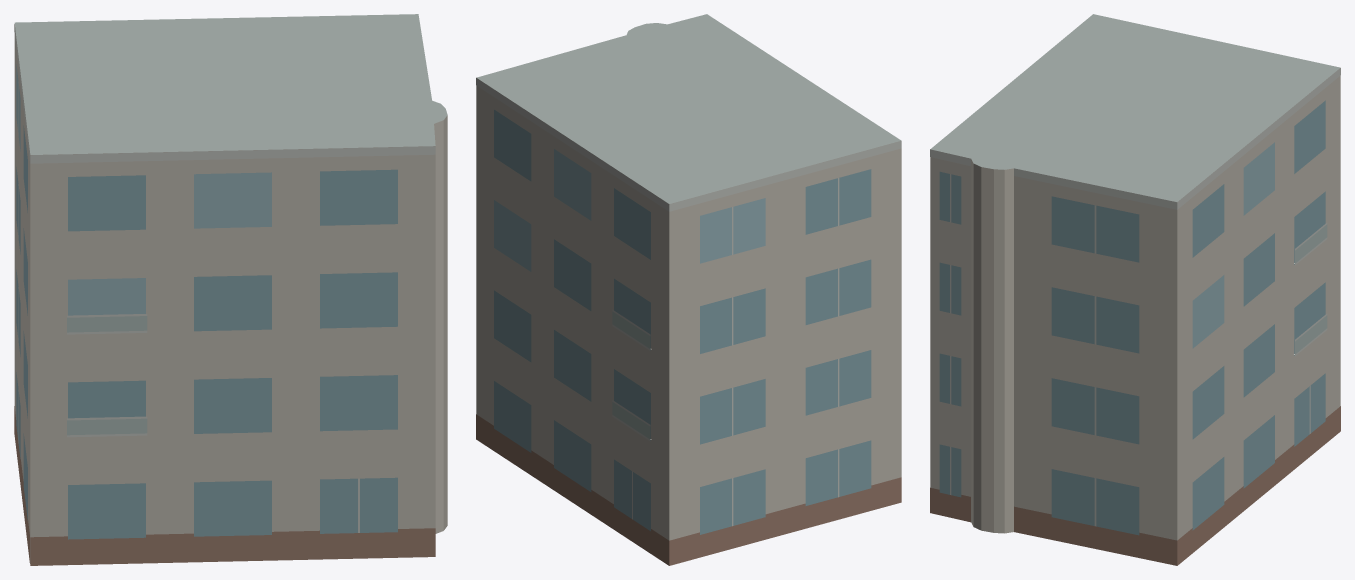
File: survey-upis-32810515.glb
The picture shows the model from 3 angles, left to right: view 1: azimuth 30°, elevation 25°; view 2: azimuth 150°, elevation 25°; view 3: azimuth 270°, elevation 25°; orthographic projection. The views are drawn at different scales.
Visible parts, largest first — view 1: survey-upis-32810515.tmp; view 2: survey-upis-32810515.tmp; view 3: survey-upis-32810515.tmp.
Part boxes in pixels (x1,y1,x2,y2): survey-upis-32810515.tmp: [14, 14, 447, 565]; survey-upis-32810515.tmp: [476, 14, 901, 565]; survey-upis-32810515.tmp: [930, 14, 1340, 565].
Size of the model in its own units: 12.77 by 11.5 by 11.78.
